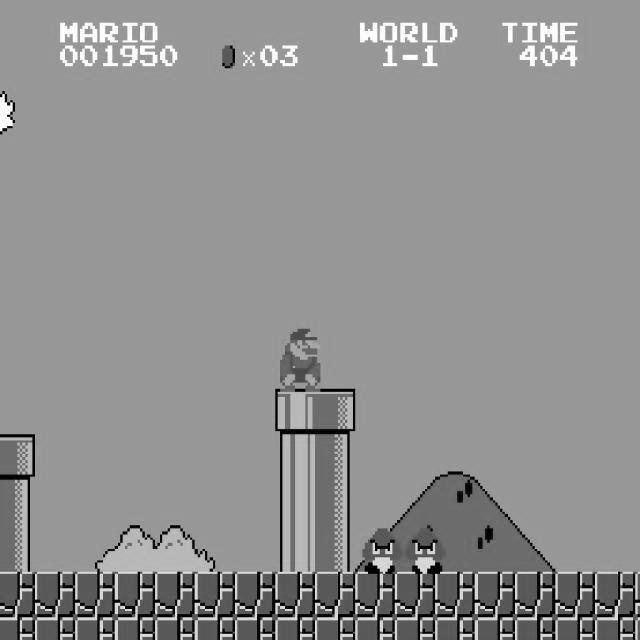0- big_mario: (277, 332, 320, 392)
14- pipe: (274, 434, 316, 480), (274, 480, 316, 526), (274, 526, 316, 572), (314, 434, 356, 480), (314, 480, 356, 526), (314, 526, 356, 572), (0, 480, 35, 526), (0, 526, 35, 572)
15- pipe_head: (274, 388, 316, 434), (314, 388, 356, 434), (0, 434, 35, 480)
17- undestructible_block: (34, 572, 76, 618), (74, 572, 116, 618), (114, 572, 156, 618), (154, 572, 196, 618), (194, 572, 236, 618), (234, 572, 276, 618), (274, 572, 316, 618), (314, 572, 356, 618), (354, 572, 396, 618), (394, 572, 436, 618), (434, 572, 476, 618), (474, 572, 516, 618), (514, 572, 556, 618), (554, 572, 596, 618), (594, 572, 636, 618), (0, 572, 35, 618), (34, 617, 76, 640), (74, 617, 116, 640), (114, 617, 156, 640), (154, 617, 196, 640), (194, 617, 236, 640), (234, 617, 276, 640), (274, 617, 316, 640), (314, 617, 356, 640), (354, 617, 396, 640), (394, 617, 436, 640), (434, 617, 476, 640), (474, 617, 516, 640), (514, 617, 556, 640), (554, 617, 596, 640), (594, 617, 636, 640), (0, 617, 35, 640), (635, 572, 640, 618), (635, 617, 640, 640)
8- goomba: (360, 526, 403, 574), (402, 526, 445, 574)
